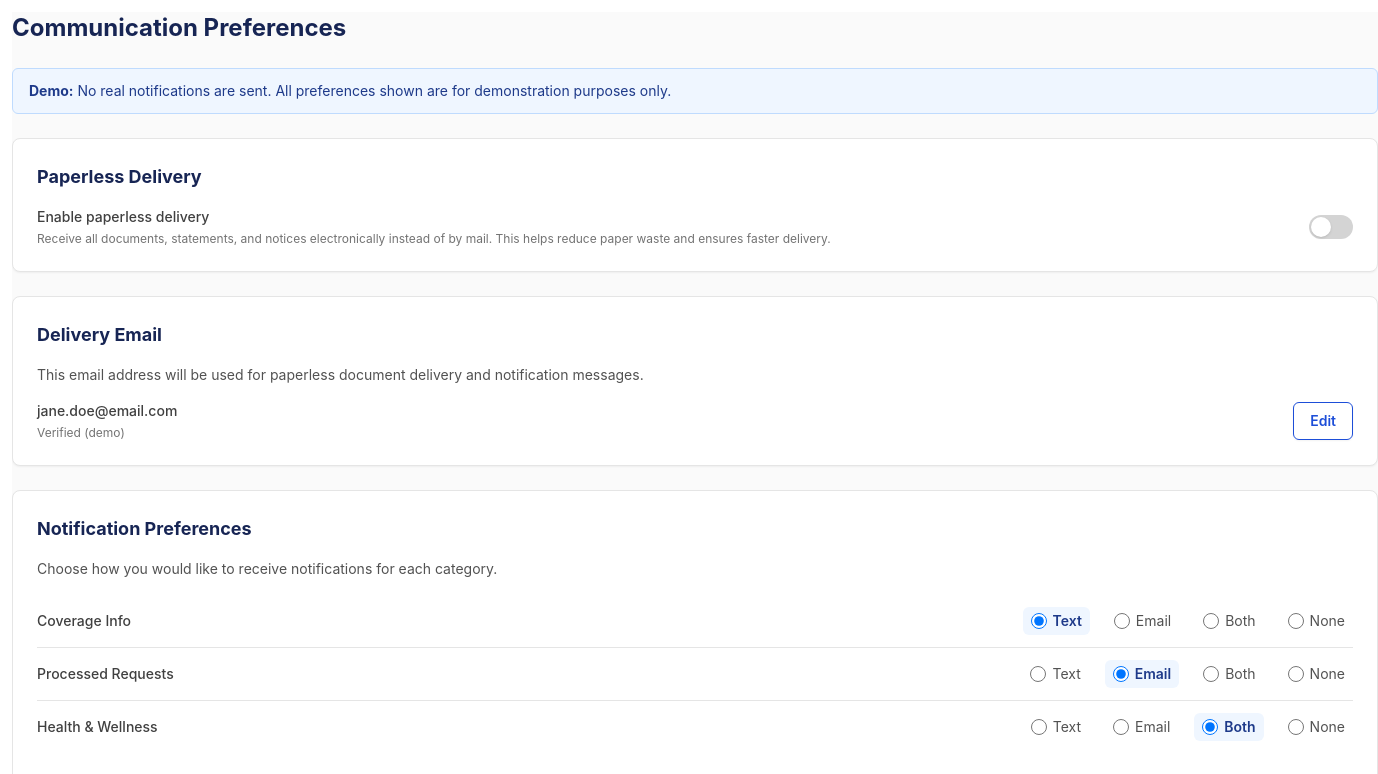
Test: CommunicationPreferencesPage › shows validation error for invalid delivery email
Click the button "Edit": (1323, 421) [1293,402,1353,440]
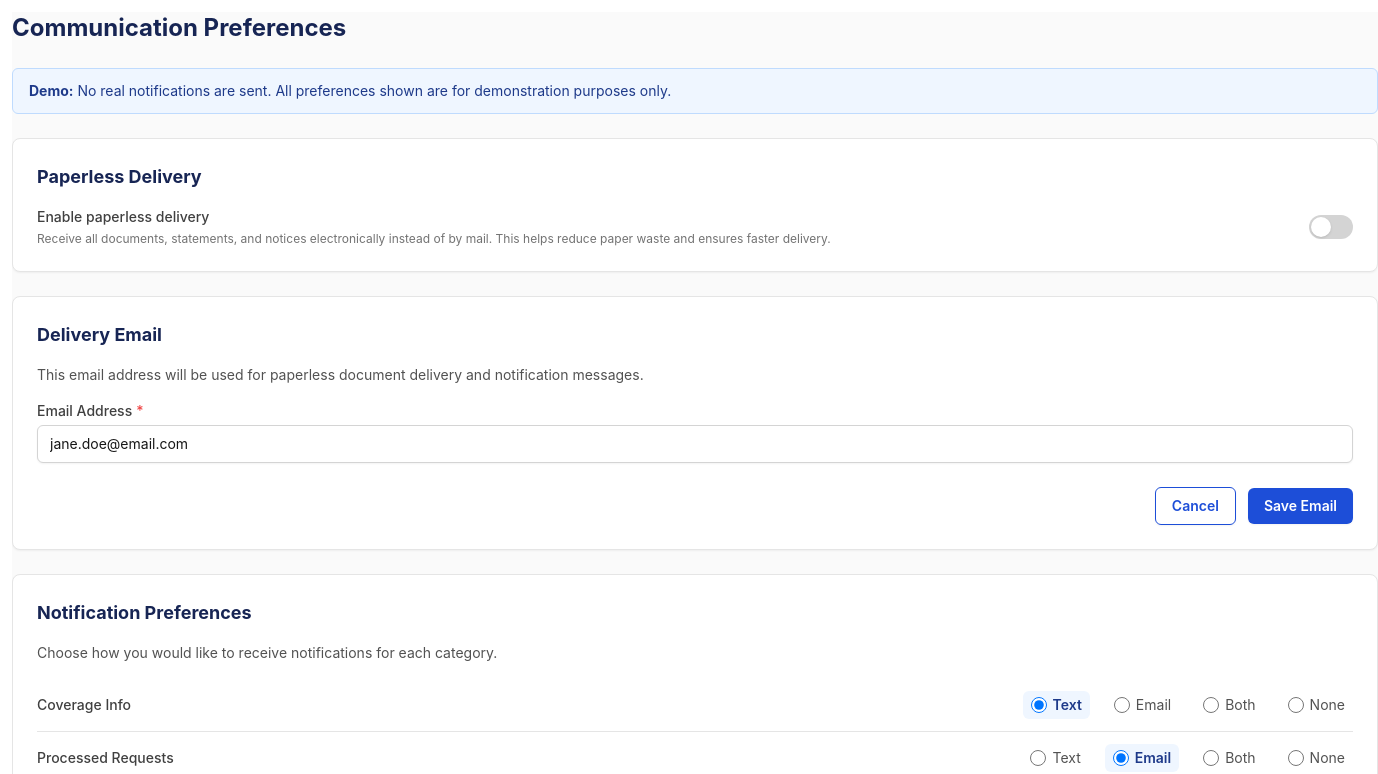
Replace the text in the field labelled "Email Address*" with "notanemail": (695, 444) [37,425,1353,463]
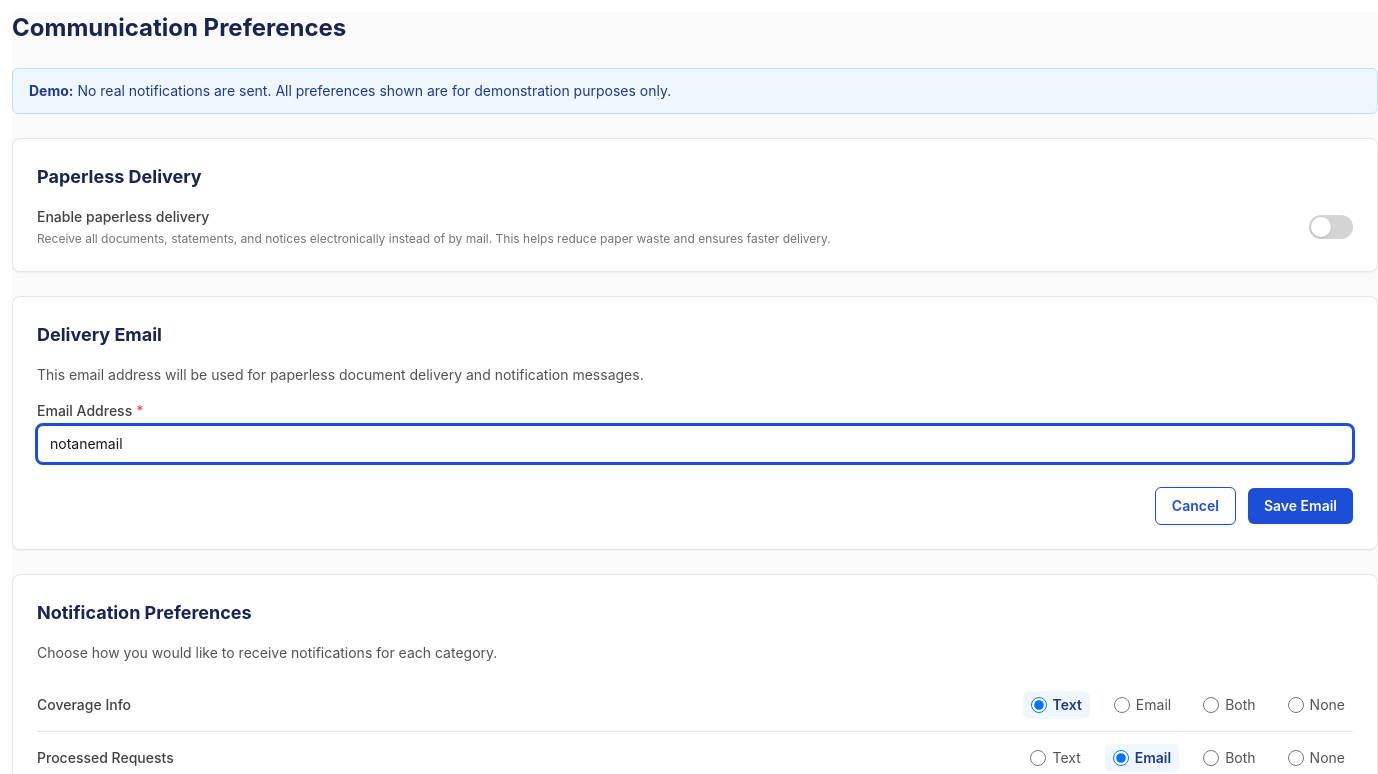
Click the button "Save Email": (1300, 506) [1248,488,1353,524]
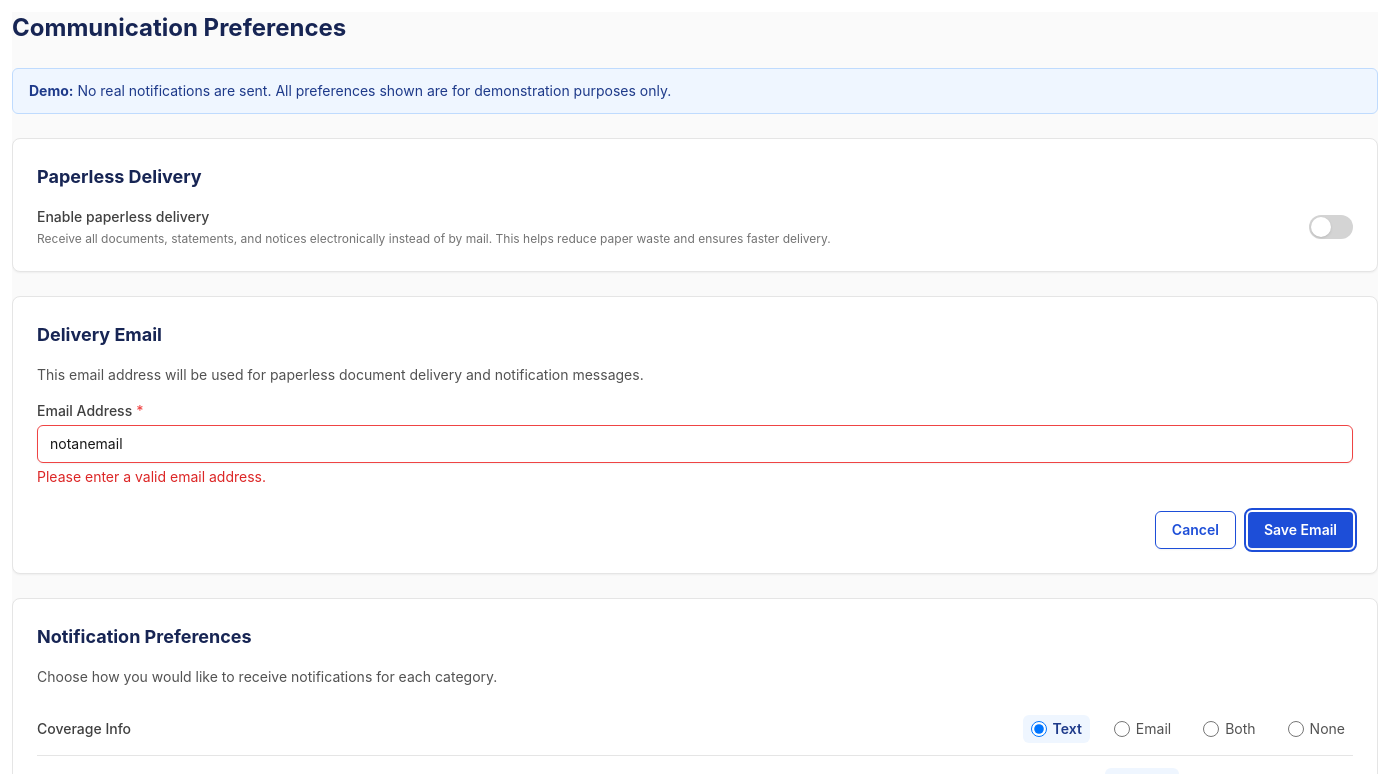
Result: the text "Please enter a valid email address." is shown at [37,468,266,485]
